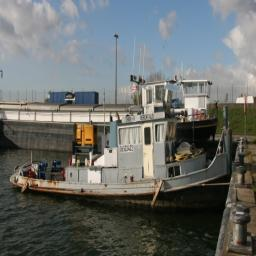tugboat: (10, 34, 234, 215)
